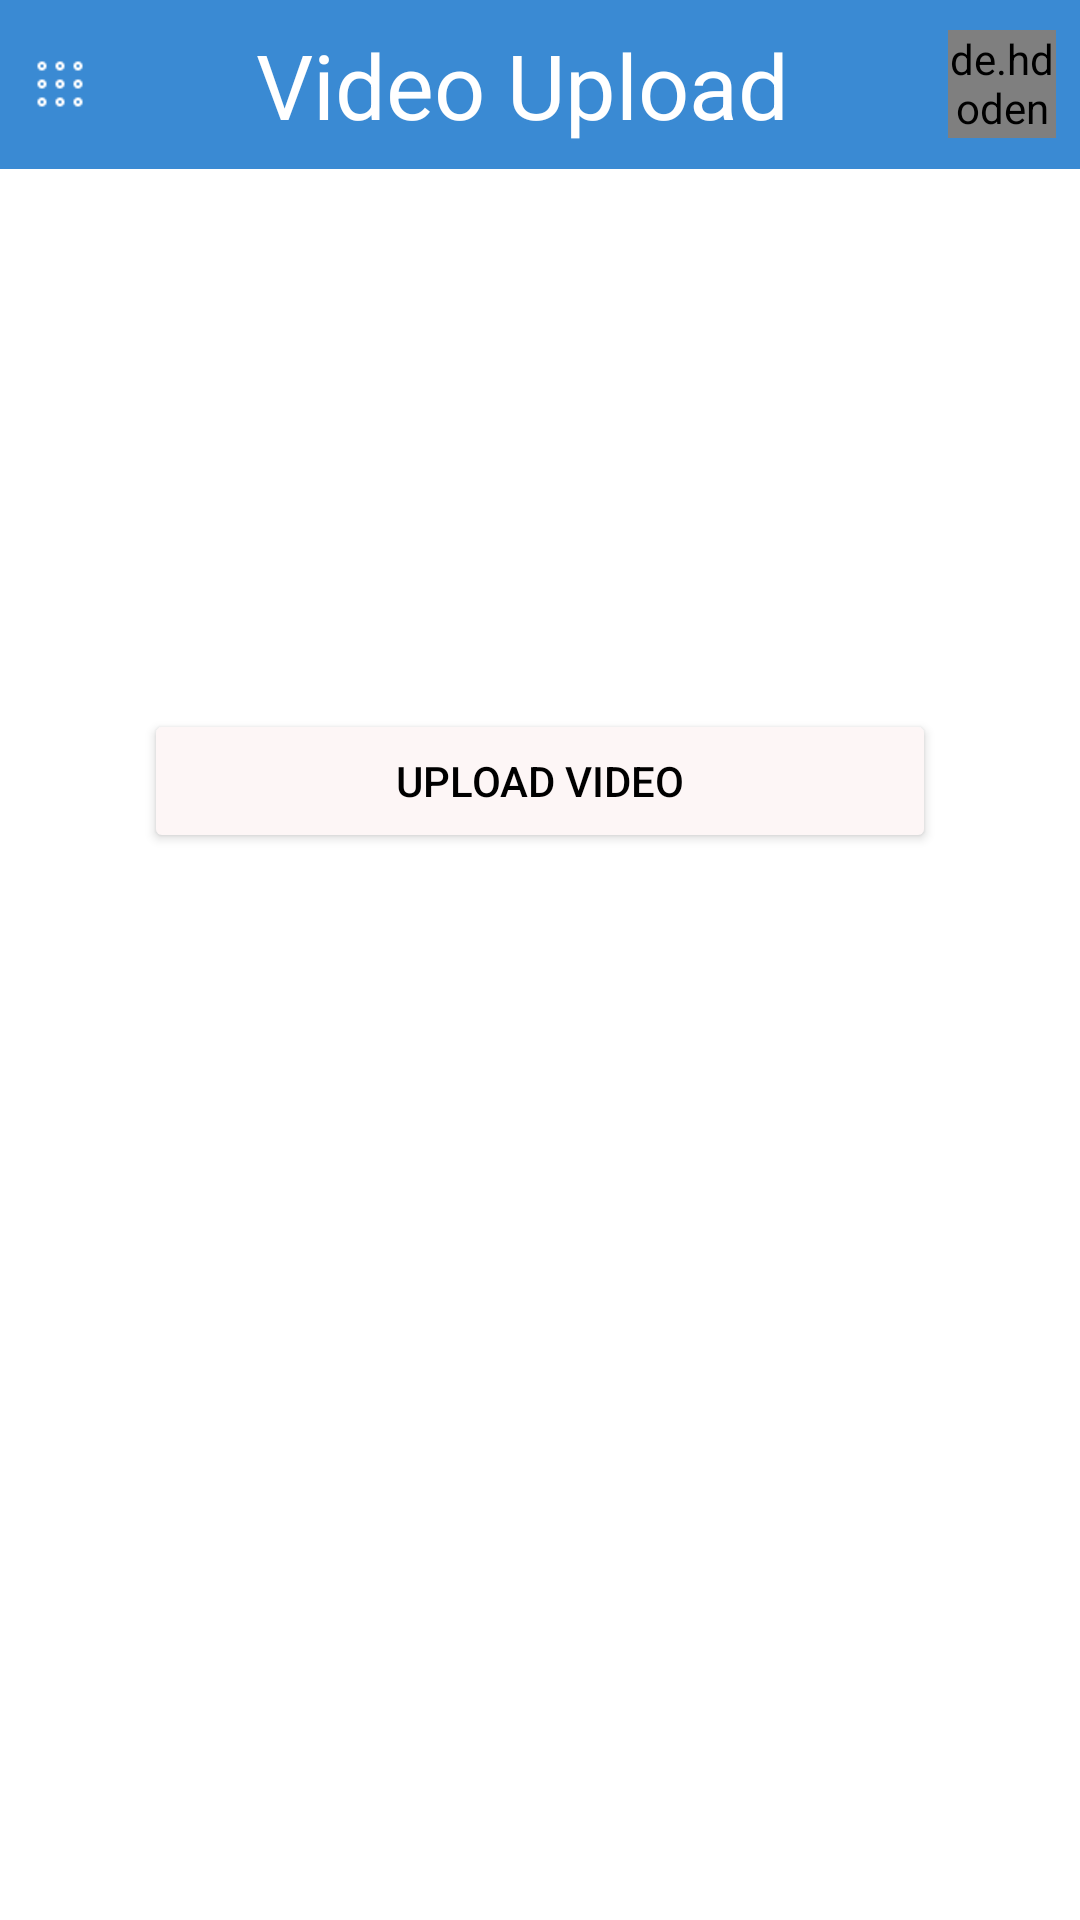

Named icons in this screenshot (1080 x 1920) and their centers, point (x, y):
apps: point (60, 84)
